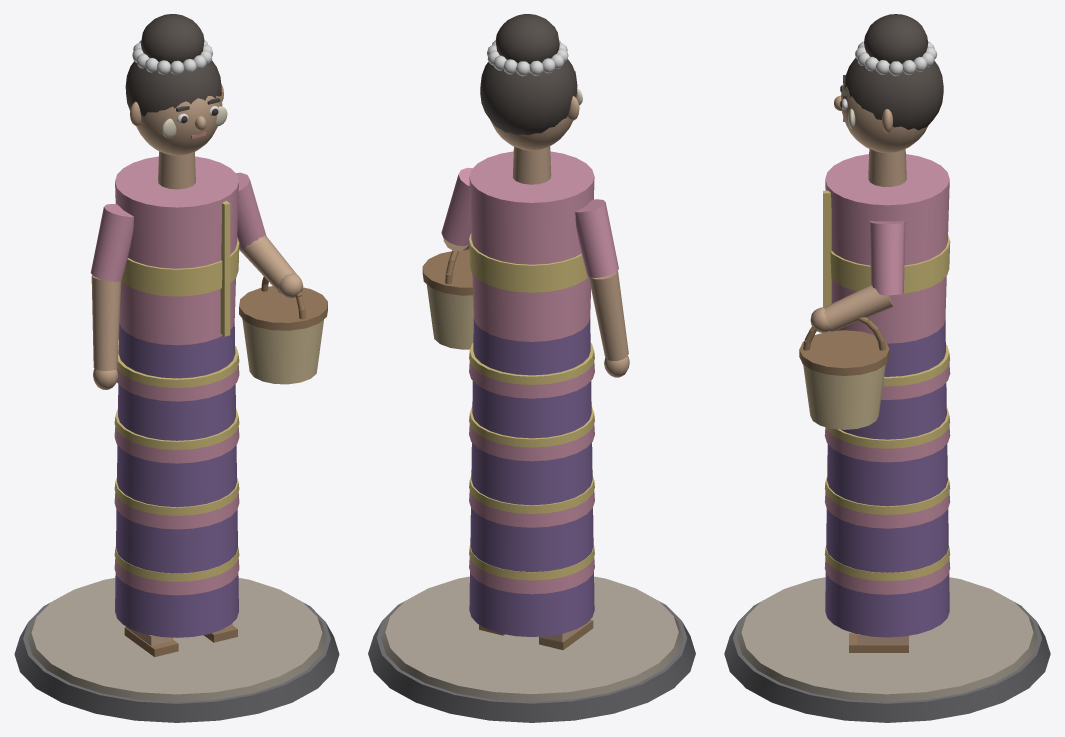
Rendered from 2_youth_weaver_character.glb.
3 renders of one model, left to right at view 1: azimuth 30°, elevation 25°; view 2: azimuth 150°, elevation 25°; view 3: azimuth 270°, elevation 25°, orthographic.
Visible parts, largest first — view 1: Character; view 2: Character; view 3: Character.
Boxes of the visible parts, x1,y1,x2,y2 form: Character: (14, 14, 339, 722); Character: (368, 14, 695, 722); Character: (724, 14, 1050, 722).
Bounding box in the file's own units: 0.76 × 1.64 × 0.76.
